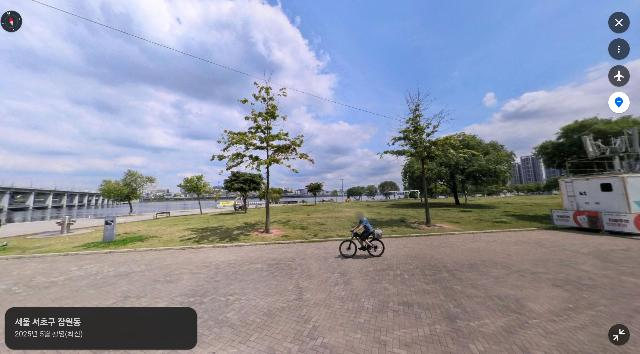other: (210, 69, 316, 234), (378, 81, 458, 226), (532, 114, 640, 196), (401, 131, 515, 207), (97, 169, 157, 216), (222, 170, 264, 214), (177, 174, 213, 215), (305, 182, 324, 206), (378, 181, 400, 201), (346, 187, 364, 202), (364, 186, 378, 201)
